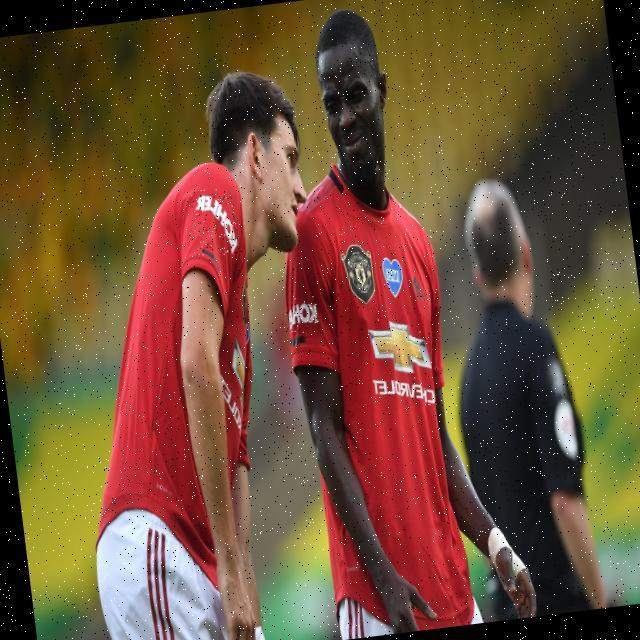Chevrolet: (361, 312, 440, 412)
Kohler: (190, 186, 240, 262), (281, 294, 321, 336)
